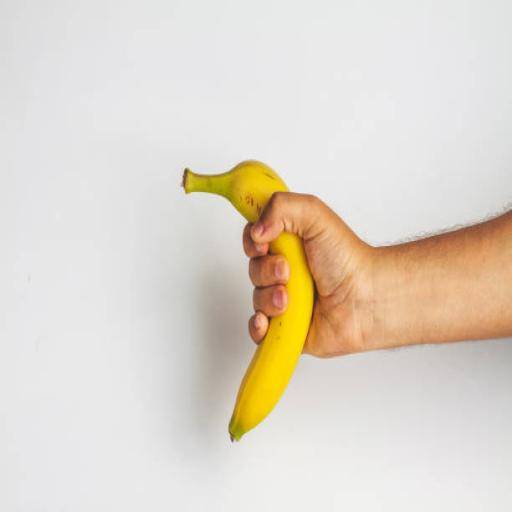banana: (229, 233, 313, 440)
